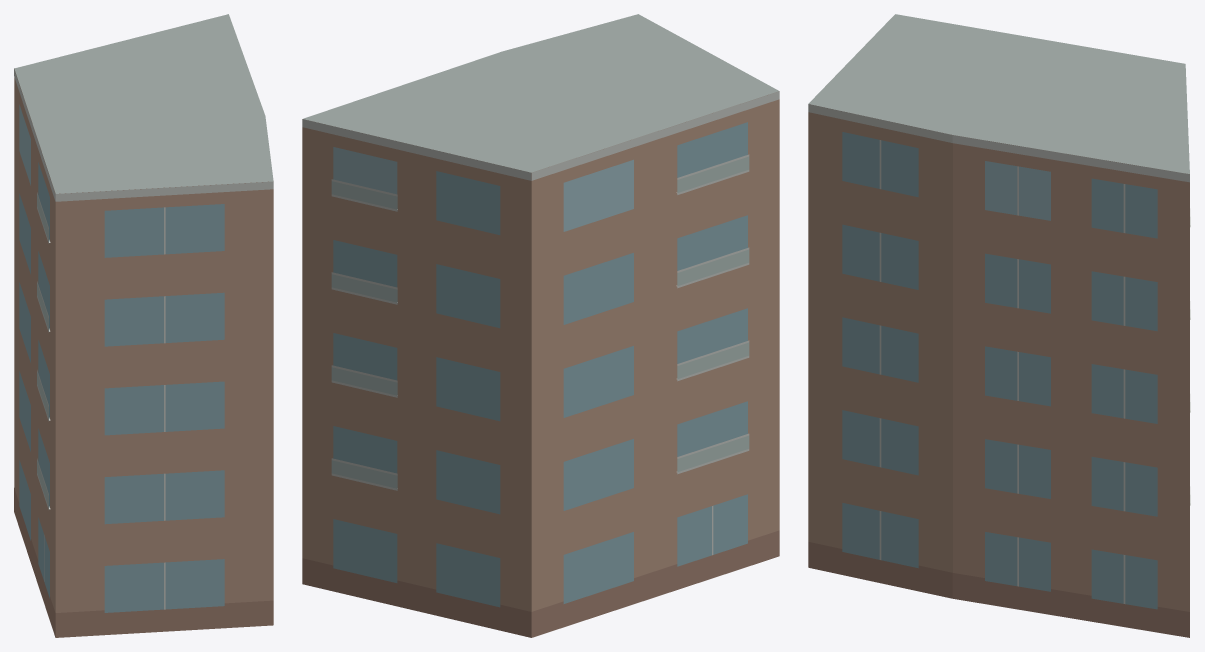
Rendered from survey-upis-32688601.glb.
The picture shows the model from 3 angles, left to right: view 1: azimuth 30°, elevation 25°; view 2: azimuth 150°, elevation 25°; view 3: azimuth 270°, elevation 25°; orthographic projection. The views are drawn at different scales.
Parts seen in each view (by area): view 1: survey-upis-32688601.tmp; view 2: survey-upis-32688601.tmp; view 3: survey-upis-32688601.tmp.
Boxes of the visible parts, x1,y1,x2,y2 form: survey-upis-32688601.tmp: (14, 14, 273, 637); survey-upis-32688601.tmp: (302, 14, 779, 637); survey-upis-32688601.tmp: (808, 14, 1190, 637).
Bounding box in the file's own units: 10.23 × 13.8 × 10.33.
